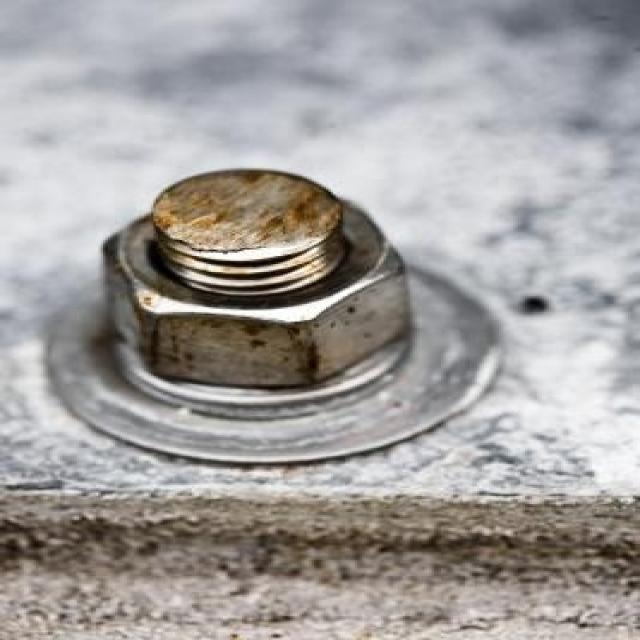bolt nut: (99, 187, 412, 387)
